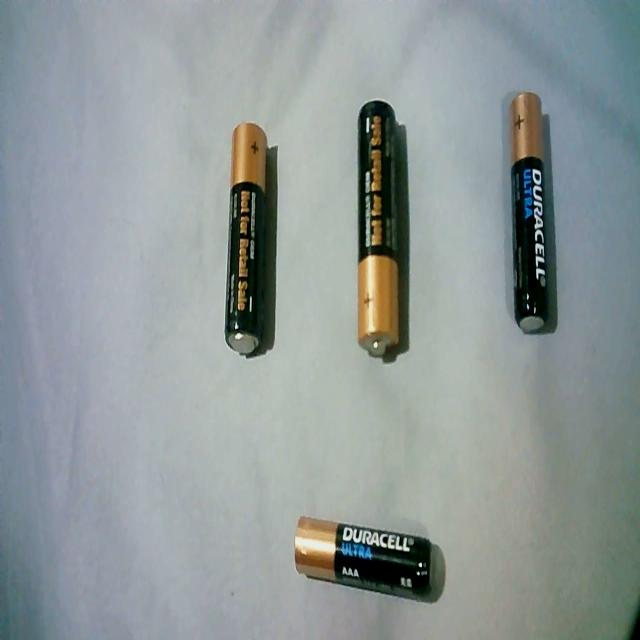AA: (352, 94, 407, 366), (220, 118, 274, 362)
AAA: (288, 506, 440, 608), (506, 87, 560, 340)
